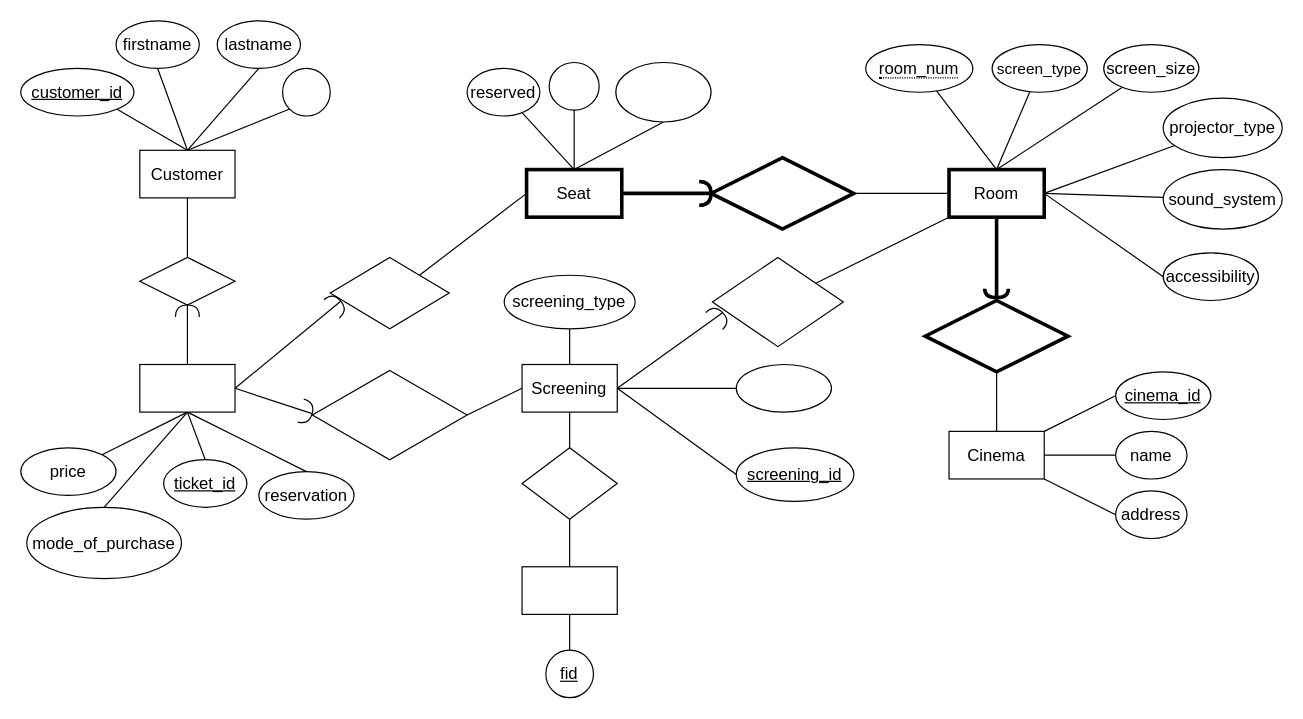
Some shapes in this 1303 by 719 pixel diagram are drawn without their labels. The shapes that lost their labels are listed below. From the top down, each one's centre as x and y in pixels, then its label:
At (305,91): "dob".
At (573,85): "row".
At (663,91): "seat_num".
At (782,192): "Part_Of_Room".
At (187,280): "Buy".
At (389,292): "Seat_Assign".
At (777,301): "Room_Assign".
At (996,335): "Part_Of_Cinema".
At (187,387): "Ticket".
At (783,387): "timeslot".
At (389,414): "Screening_Assign".
At (569,483): "Show".
At (569,590): "Film".
